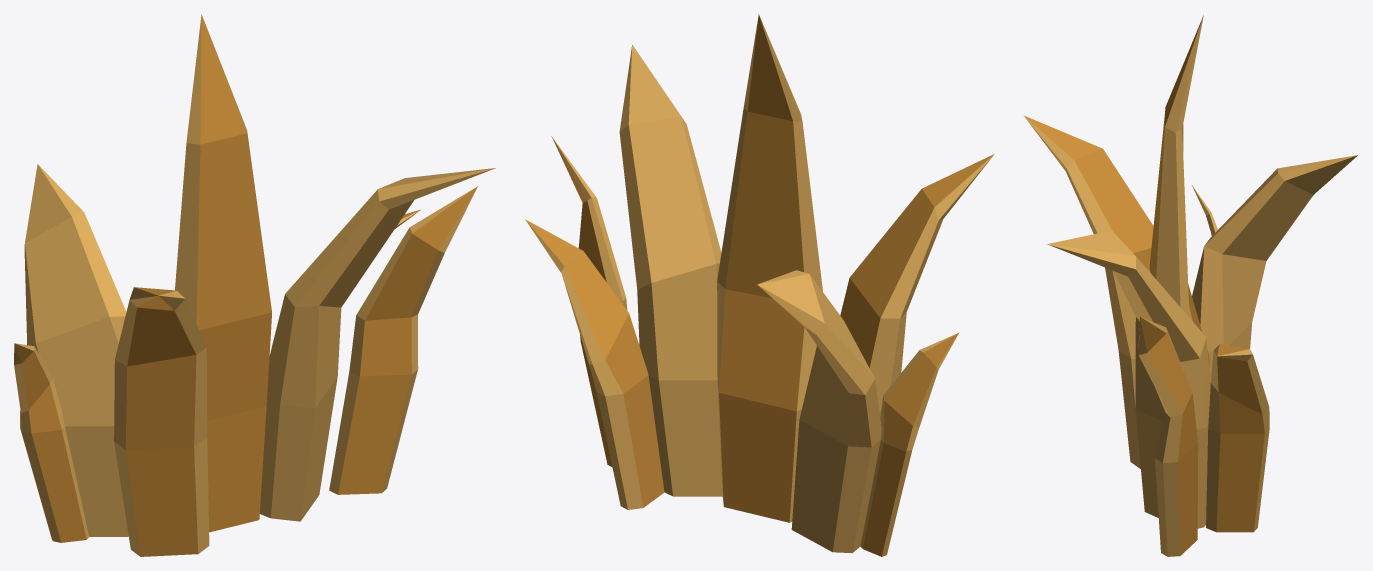
The model's file is grass_2_brown.fbx.
The picture shows the model from 3 angles, left to right: view 1: azimuth 30°, elevation 25°; view 2: azimuth 150°, elevation 25°; view 3: azimuth 270°, elevation 25°; orthographic projection. The views are drawn at different scales.
Parts seen in each view (by area): view 1: grass_2_brown; view 2: grass_2_brown; view 3: grass_2_brown.
Boxes of the visible parts, x1,y1,x2,y2 form: grass_2_brown: [14, 14, 495, 556]; grass_2_brown: [525, 14, 994, 556]; grass_2_brown: [1023, 15, 1357, 556].
Size of the model in its own units: 99.59 by 109 by 71.01.
